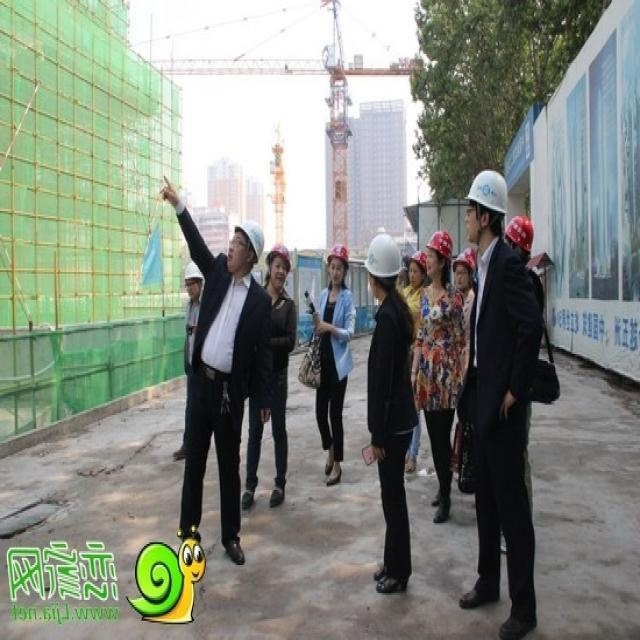Con_Casco: (466, 170, 506, 241), (364, 235, 401, 297), (227, 219, 266, 276)
